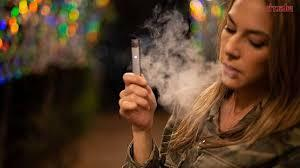smoker: (111, 8, 265, 140)
